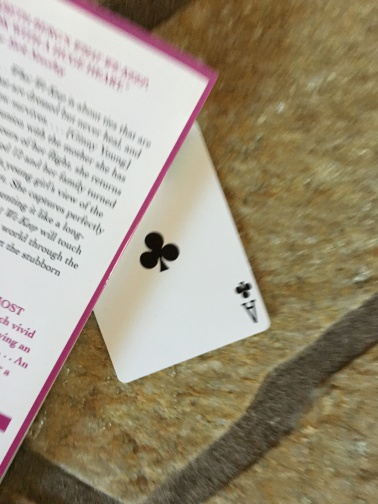ace: (92, 119, 271, 384)
